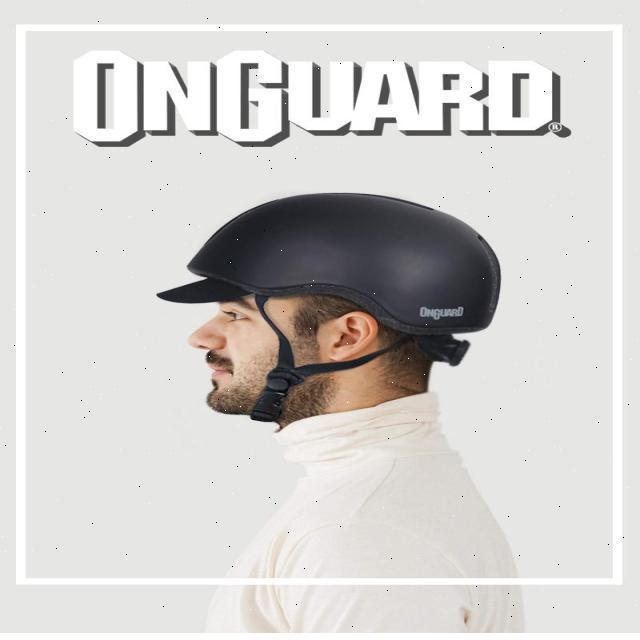helmet: (158, 186, 502, 422)
